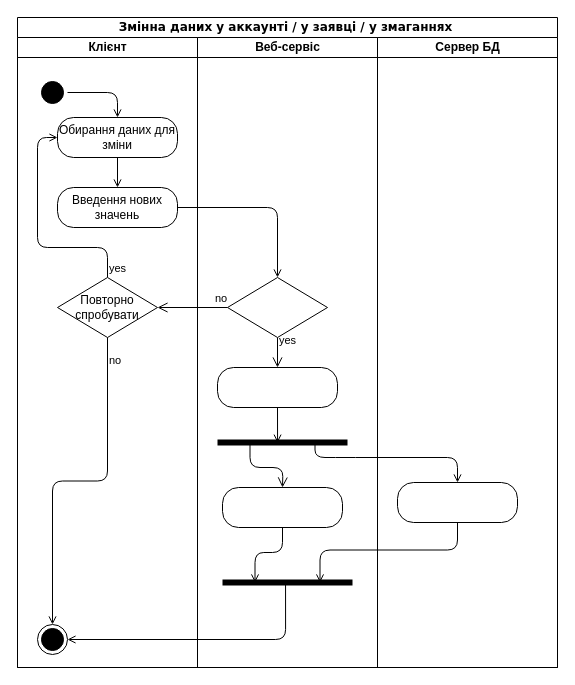
Some shapes in this 575 by 685 pixel diagram are drawn without their labels. The centre of each missing label's shape, as x and y in pixels:
"Заміна вказаних даних" goes at point 457,502.
"Запит до БД" goes at point 277,387.
"Коректні дані" goes at point 277,307.
"Інформування користувача" goes at point 282,507.
